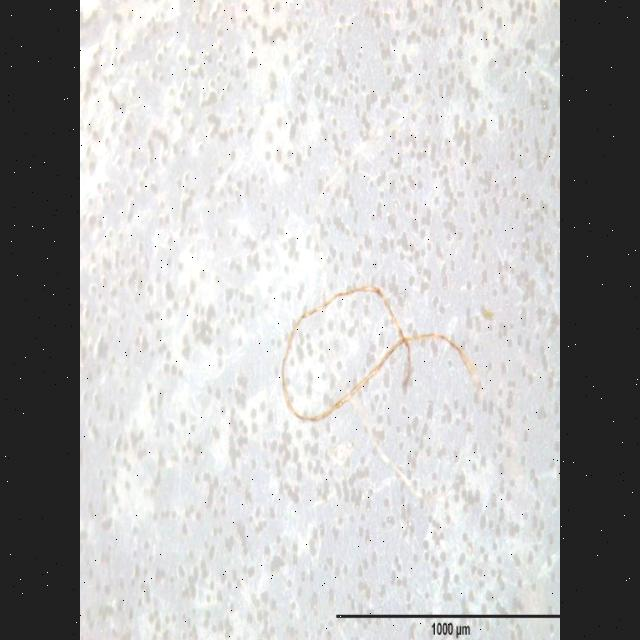Fibre: (282, 284, 480, 422)
